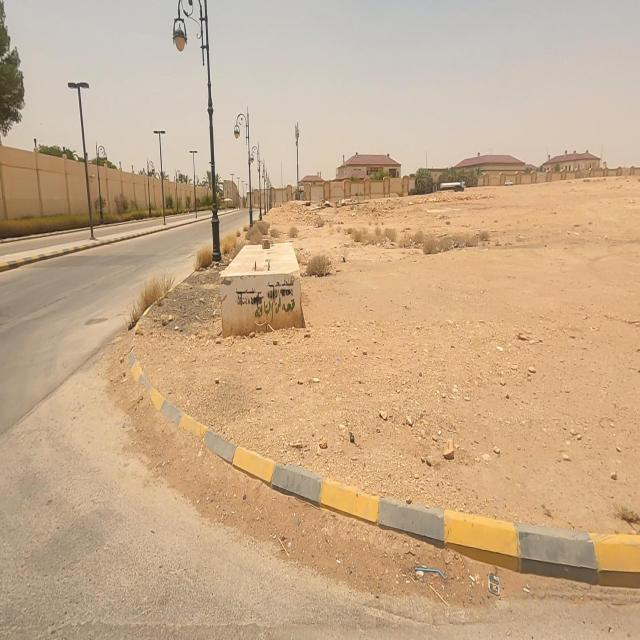Graffiti: (236, 278, 299, 319)
